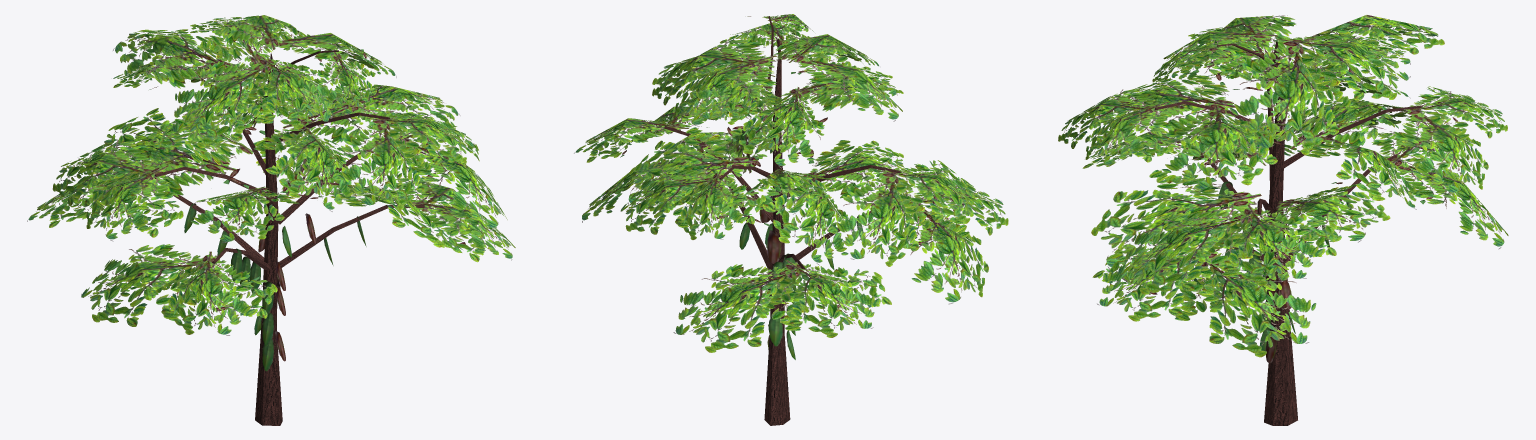
File: tree_cacao_3.dae
The picture shows the model from 3 angles, left to right: view 1: azimuth 30°, elevation 25°; view 2: azimuth 150°, elevation 25°; view 3: azimuth 270°, elevation 25°; orthographic projection. The views are drawn at different scales.
Visible parts, largest first — view 1: cacao_3; view 2: cacao_3; view 3: cacao_3.
Boxes of the visible parts, x1,y1,x2,y2 form: cacao_3: [27, 15, 515, 425]; cacao_3: [574, 14, 1008, 425]; cacao_3: [1058, 15, 1508, 425].
Size of the model in its own units: 8.39 by 8.1 by 7.45.
